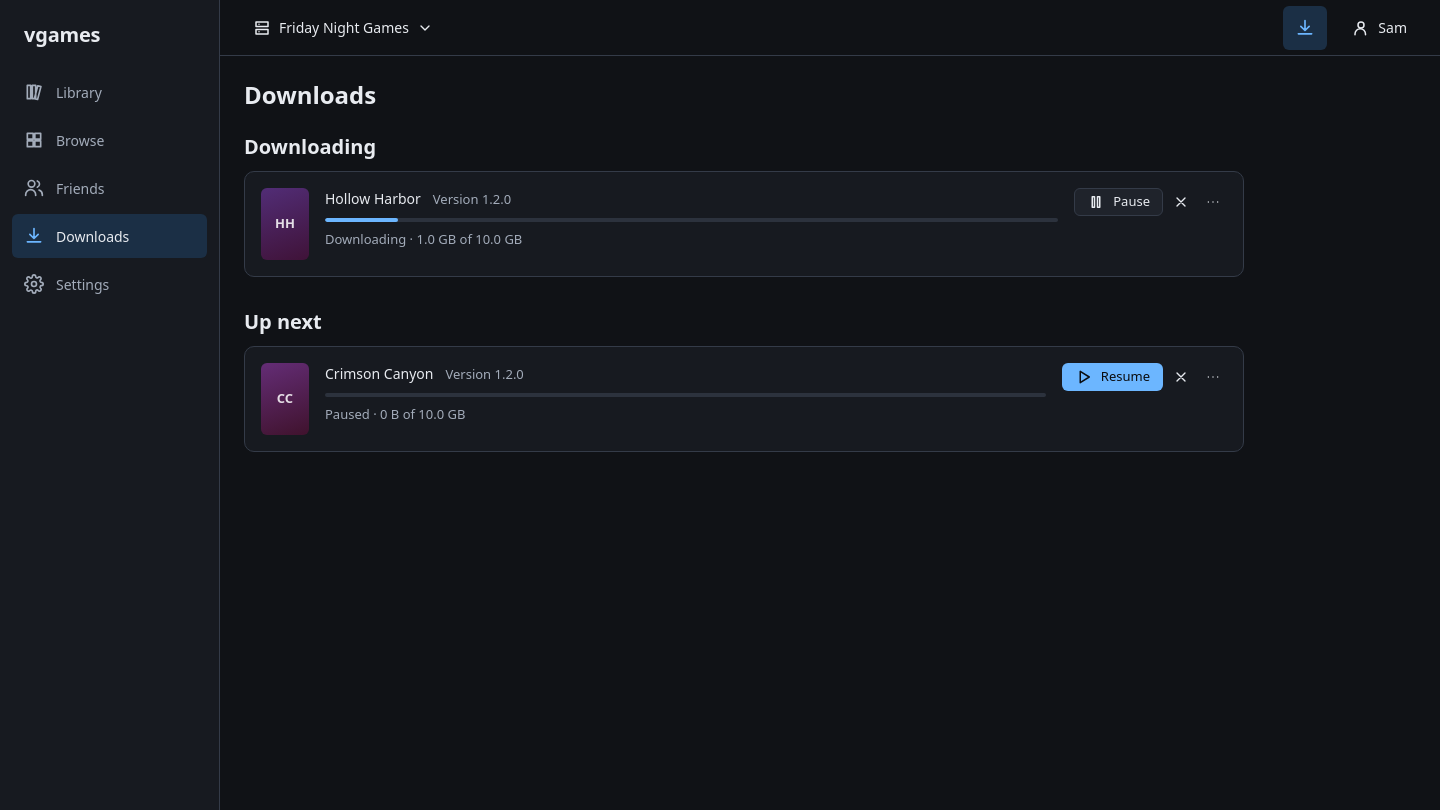
Test: downloads › says why an action failed
Click the button with aria-label "Resume Crimson Canyon". click: (1112, 377)
box: [1062,363,1163,391]
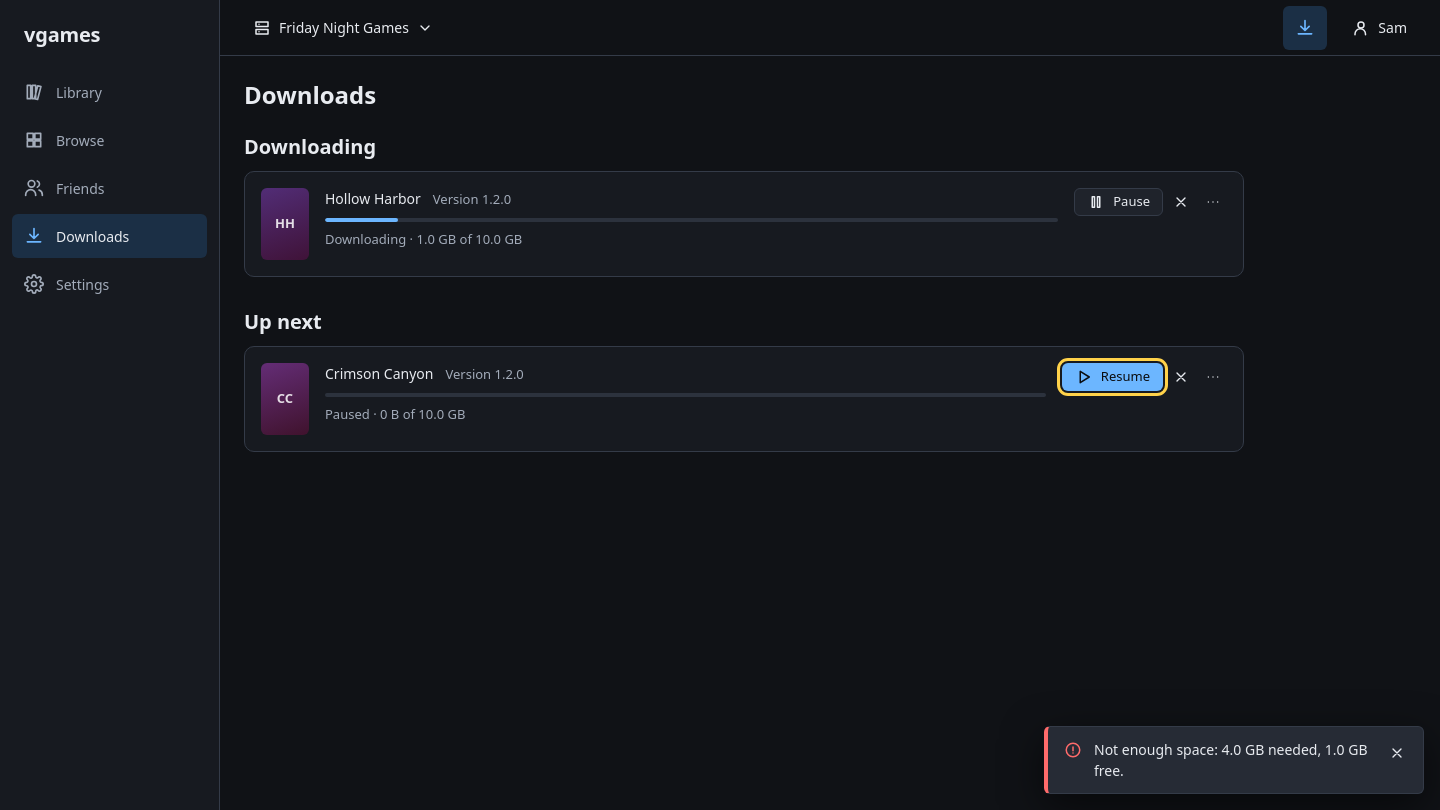
Expected: the text "Not enough space: 4.0 GB needed, 1.0 GB free." is shown, [1094,739,1371,781]
